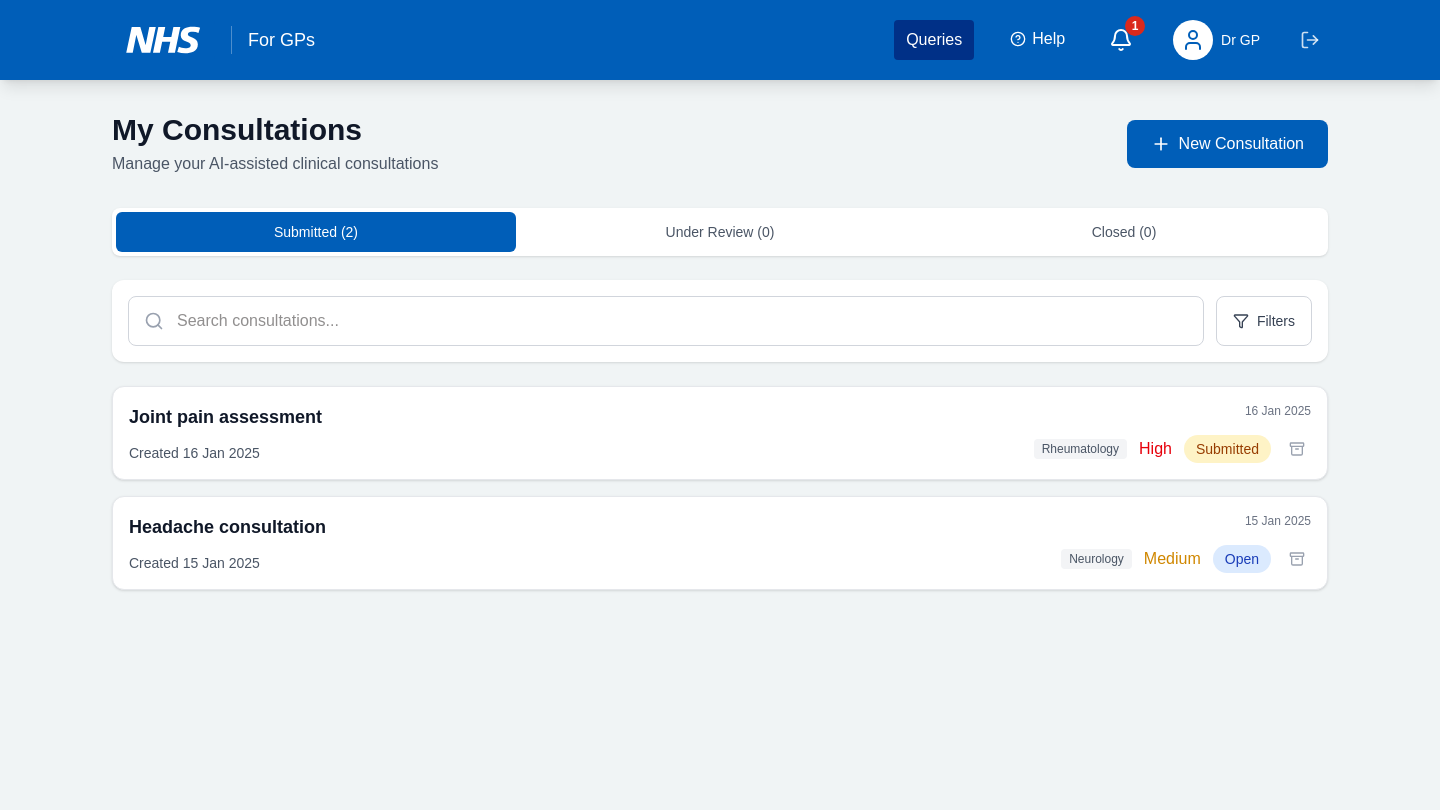
app integration flows › gp search filters consultations
The image size is (1440, 810).
Expected: the heading "Headache consultation" is shown, top-left (129, 517), bottom-right (326, 537)
In the field with placeholder "Search consultations...": (666, 321) top-left (128, 296), bottom-right (1204, 346), type "joint pain"
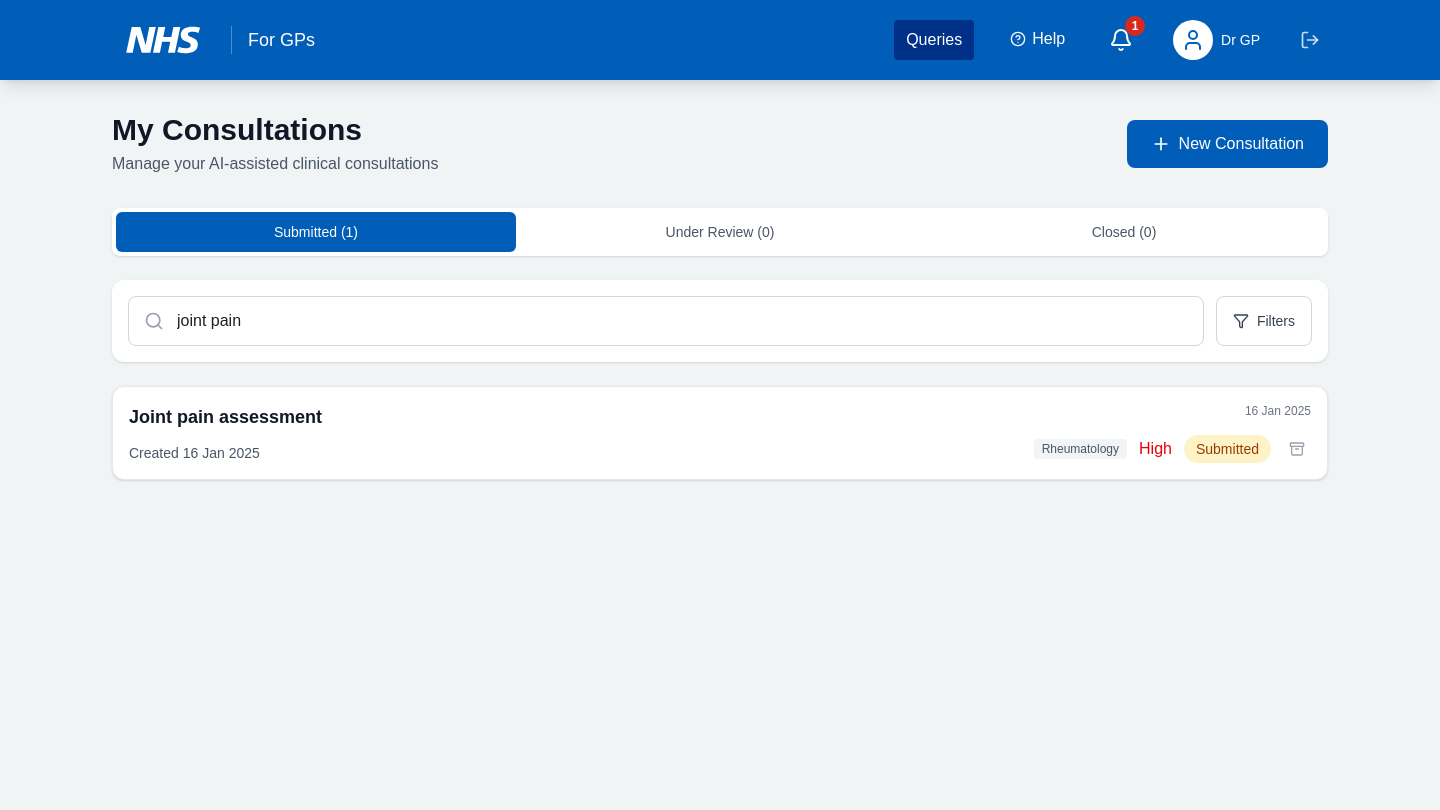
Expected: the heading "Joint pain assessment" is shown, top-left (129, 407), bottom-right (322, 427)
Now the heading "Headache consultation" is gone
